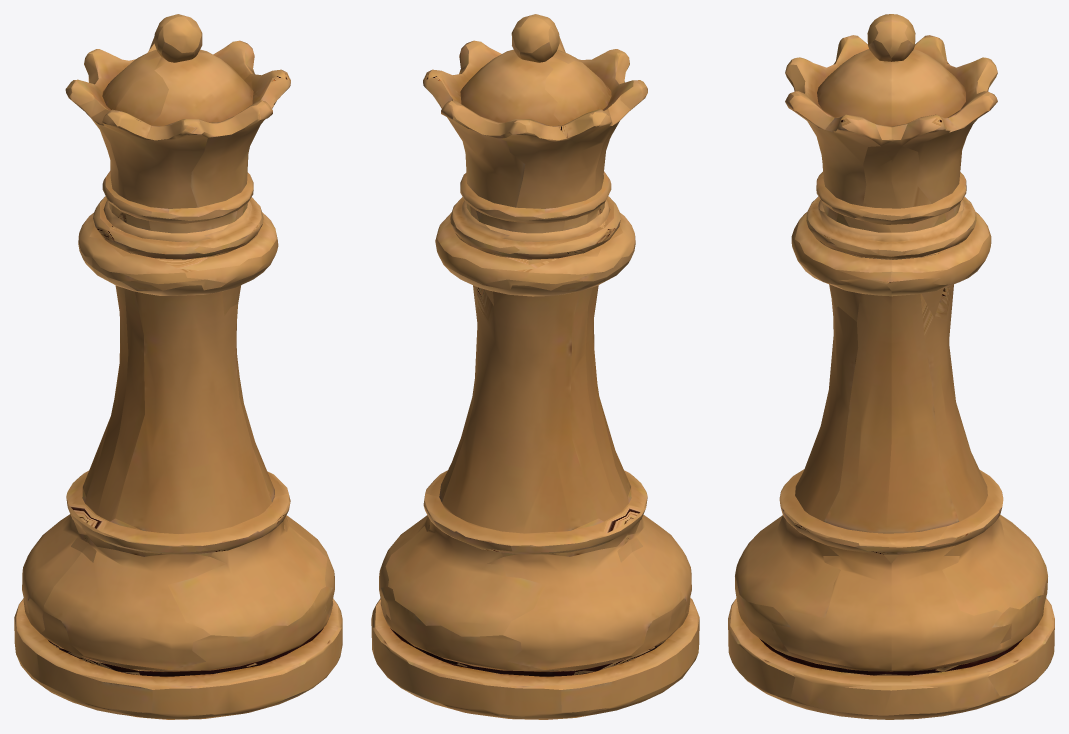
3 renders of one model, left to right at view 1: azimuth 30°, elevation 25°; view 2: azimuth 150°, elevation 25°; view 3: azimuth 270°, elevation 25°, orthographic.
Parts seen in each view (by area): view 1: geometry_0; view 2: geometry_0; view 3: geometry_0.
Part boxes in pixels (x1=…): geometry_0: x1=14, y1=14, x2=342, y2=719; geometry_0: x1=371, y1=14, x2=699, y2=719; geometry_0: x1=728, y1=14, x2=1054, y2=719.
Bounding box in the file's own units: 0.4664 × 1 × 0.4647.
Materials: 1 (1 with a texture image).
